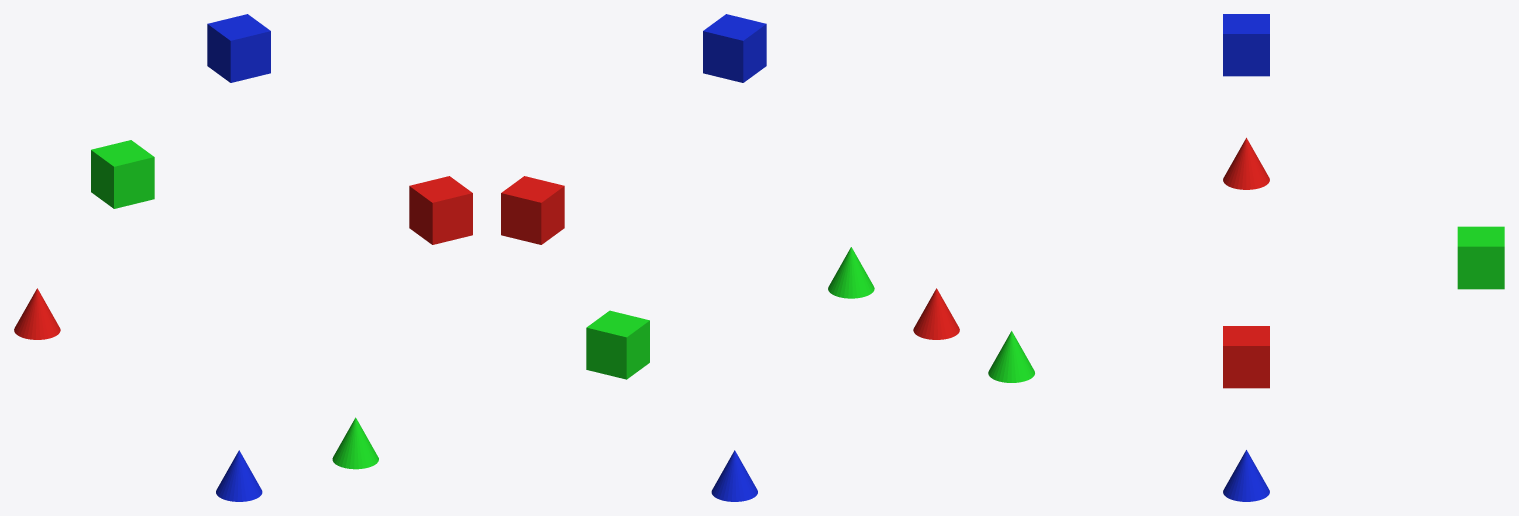
File: cubes2.gltf
The picture shows the model from 3 angles, left to right: view 1: azimuth 30°, elevation 25°; view 2: azimuth 150°, elevation 25°; view 3: azimuth 270°, elevation 25°; orthographic projection.
Visible parts, largest first — view 1: CubeX, CubeY, Cube, Cone.001, Cone, Cone.002; view 2: CubeX, CubeY, Cube, Cone.001, Cone, Cone.002; view 3: CubeY, CubeX, Cube, Cone, Cone.002, Cone.001.
Boxes of the visible parts, x1,y1,x2,y2 form: CubeX: [409, 176, 472, 244]; CubeY: [91, 140, 154, 208]; Cube: [207, 14, 270, 82]; Cone.001: [332, 417, 378, 469]; Cone: [14, 288, 60, 339]; Cone.002: [216, 450, 262, 501]; CubeX: [501, 176, 564, 244]; CubeY: [586, 310, 649, 379]; Cube: [703, 14, 766, 82]; Cone.001: [828, 247, 874, 298]; Cone: [913, 288, 959, 339]; Cone.002: [711, 450, 757, 501]; CubeY: [1457, 226, 1504, 289]; CubeX: [1223, 326, 1269, 388]; Cube: [1223, 14, 1269, 76]; Cone: [1223, 137, 1269, 189]; Cone.002: [1223, 450, 1269, 501]; Cone.001: [988, 331, 1034, 382].
Bounding box in the file's own units: 22 × 22 × 22.
